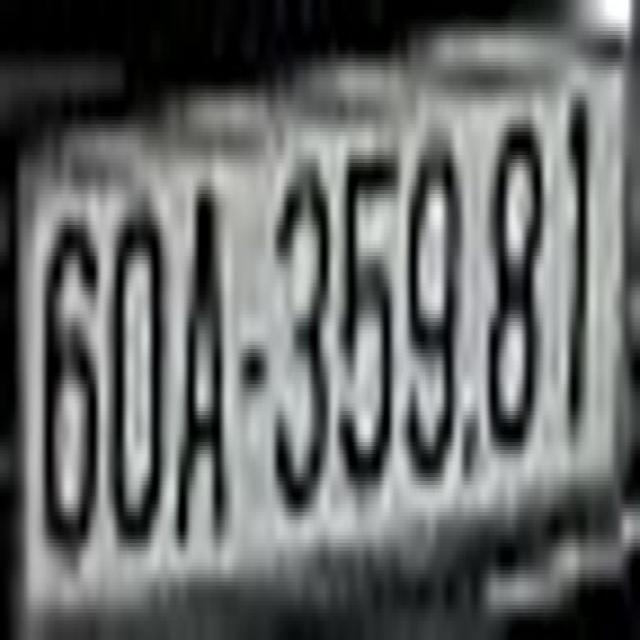0: (111, 198, 166, 554)
1: (563, 70, 591, 465)
3: (269, 140, 332, 547)
5: (337, 143, 401, 516)
6: (38, 209, 99, 566)
8: (482, 101, 542, 473)
9: (404, 108, 460, 500)
A: (174, 178, 228, 574)
